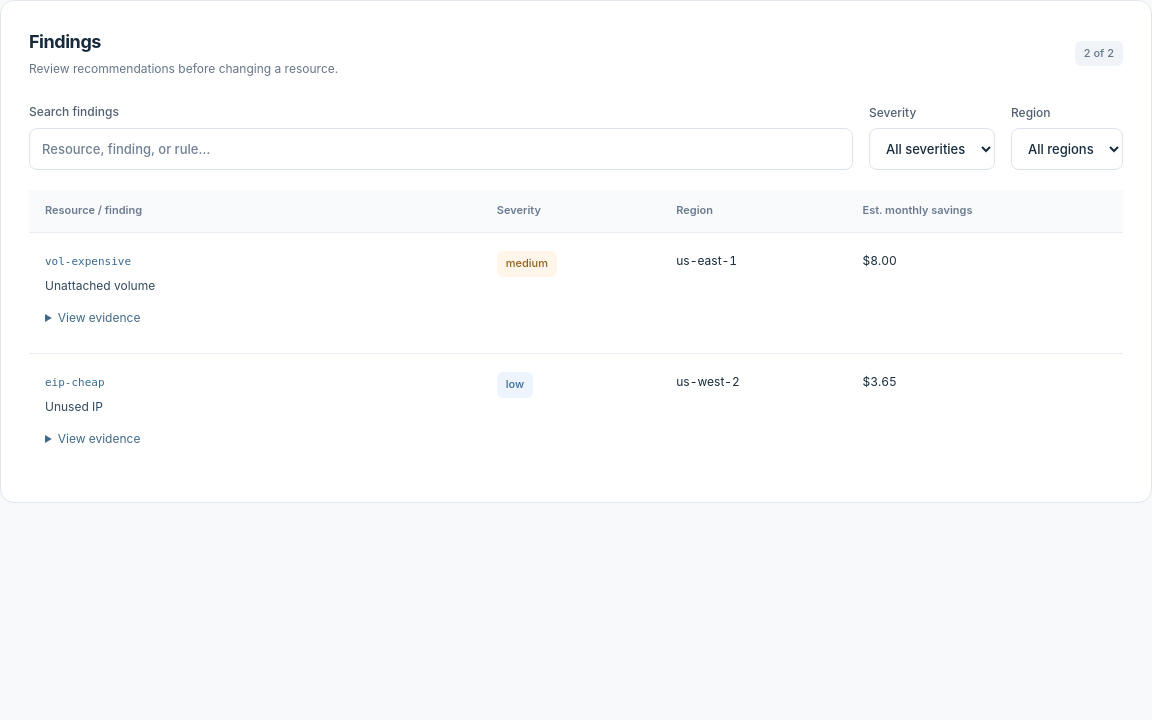
Test: findings sort by savings and filter by severity and region
Expected: the text "vol-expensive" is shown, x1=45 y1=255 x2=131 y2=268
Select "low" in the dropdown labelled "Severity" at (932, 149), box x1=869 y1=128 x2=995 y2=170
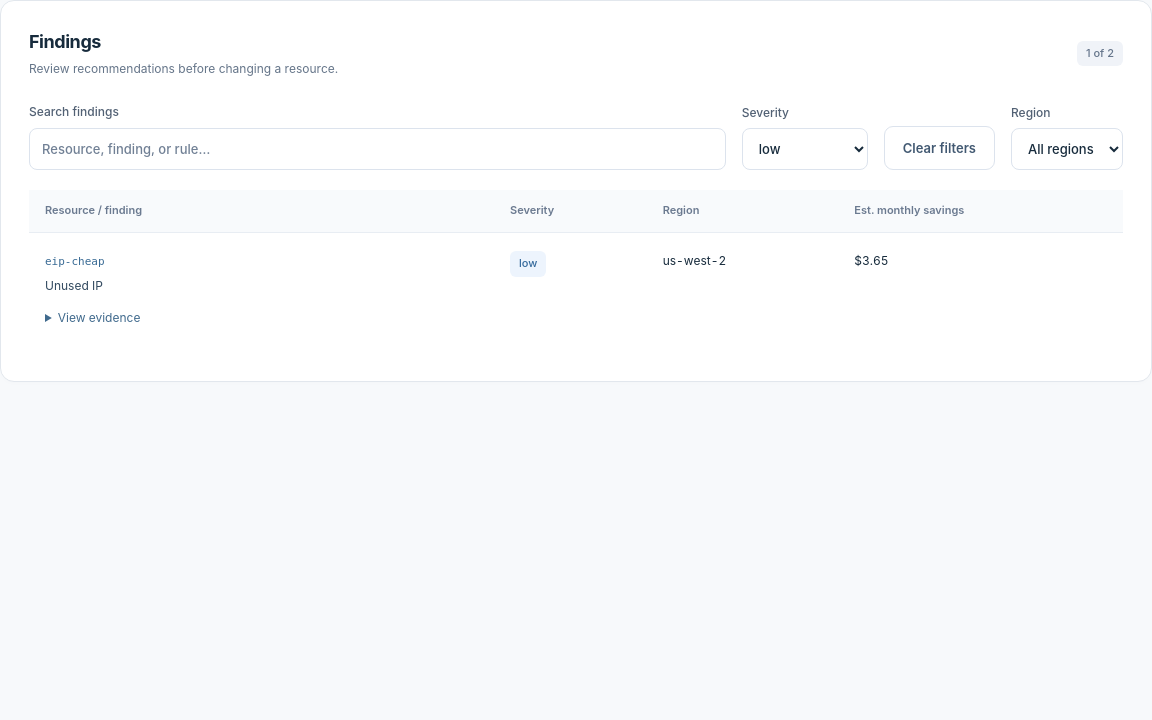
Expected: the text "eip-cheap" is shown, x1=45 y1=255 x2=105 y2=268
Expected: the text "vol-expensive" is gone
Select "us-east-1" in the dropdown labelled "Region" at (1067, 149), box x1=1011 y1=128 x2=1123 y2=170
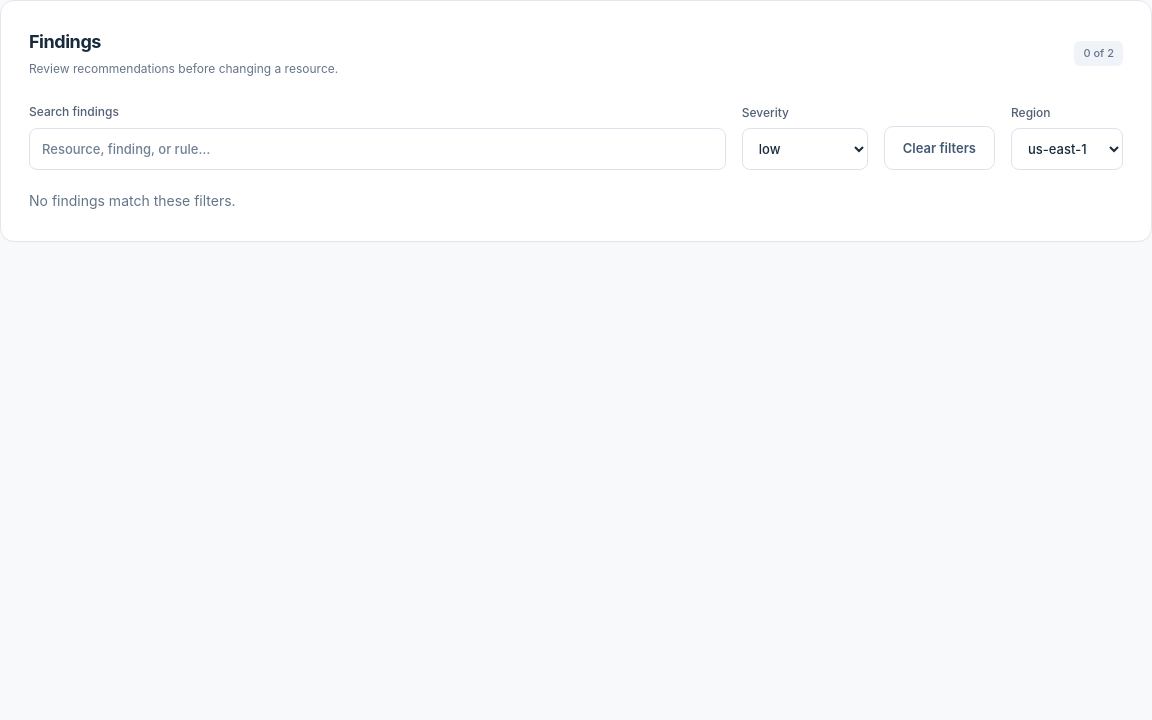
Expected: the text "eip-cheap" is gone
Expected: the text "No findings match these filters." is shown, x1=29 y1=192 x2=236 y2=209
